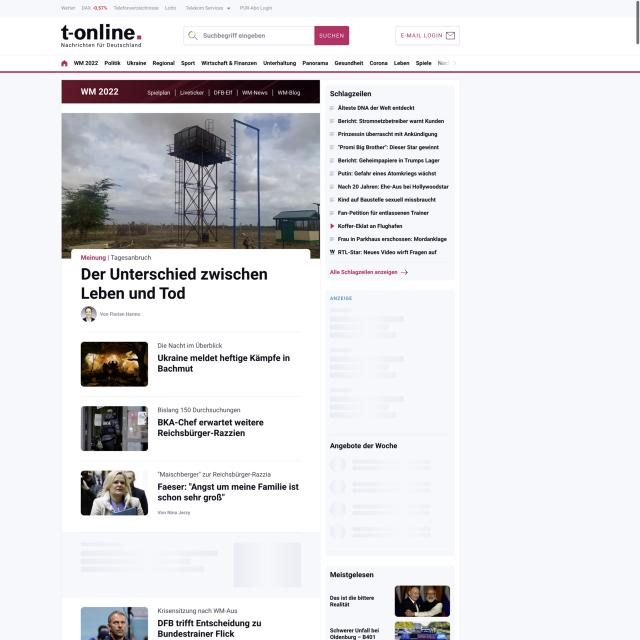input: (183, 25, 350, 46)
logo: (55, 21, 149, 50)
navigation: (58, 57, 458, 70), (59, 2, 275, 13), (145, 87, 302, 98)
